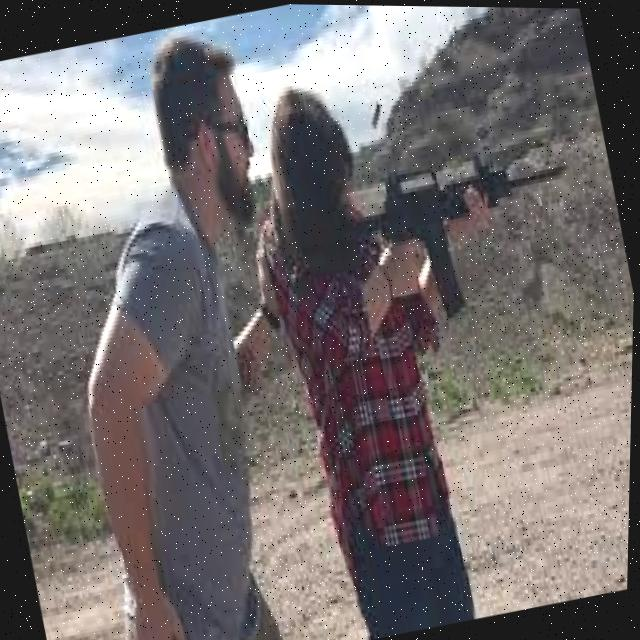firearm: (349, 133, 593, 330)
